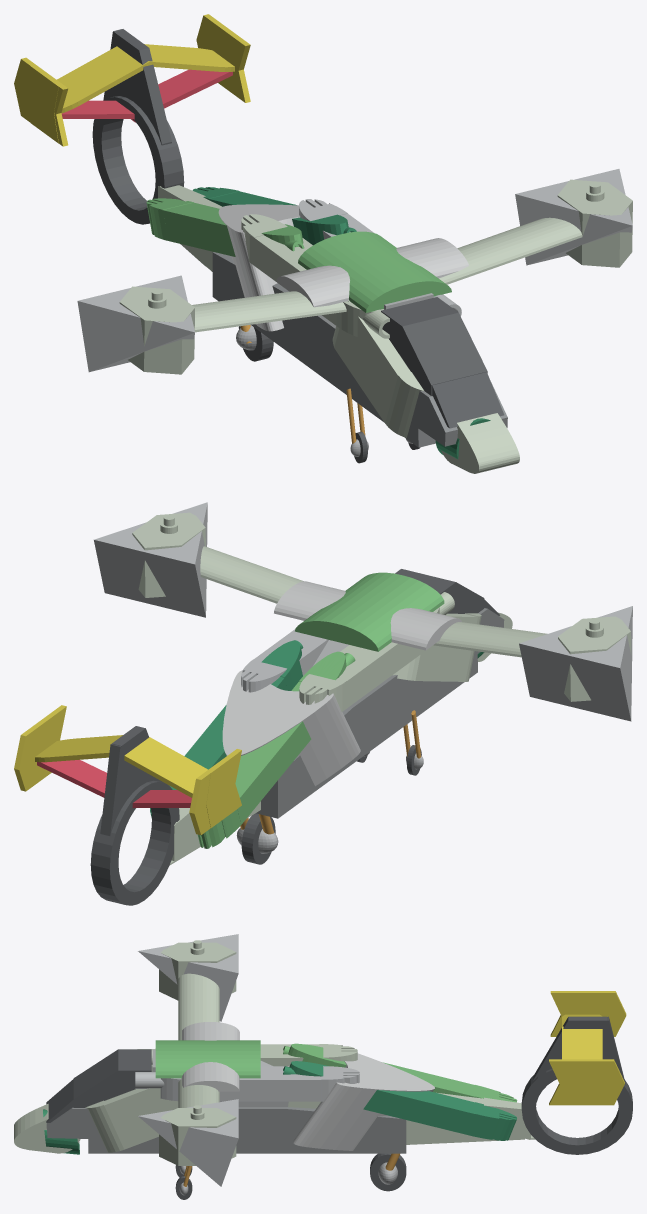
The model's file is Helicopter.glb.
3 renders of one model, top to bottom at view 1: azimuth 30°, elevation 25°; view 2: azimuth 150°, elevation 25°; view 3: azimuth 270°, elevation 25°, orthographic. The views are drawn at different scales.
Parts seen in each view (by area): view 1: Mesh_Mesh_head_geo.001_lambert2SG.001; view 2: Mesh_Mesh_head_geo.001_lambert2SG.001; view 3: Mesh_Mesh_head_geo.001_lambert2SG.001.
Part boxes in pixels (box(x1,y1,x2,y2)): Mesh_Mesh_head_geo.001_lambert2SG.001: box(14, 14, 632, 473); Mesh_Mesh_head_geo.001_lambert2SG.001: box(14, 502, 632, 905); Mesh_Mesh_head_geo.001_lambert2SG.001: box(14, 934, 632, 1199).
Bounding box in the file's own units: 0.1195 × 0.047 × 0.153.
